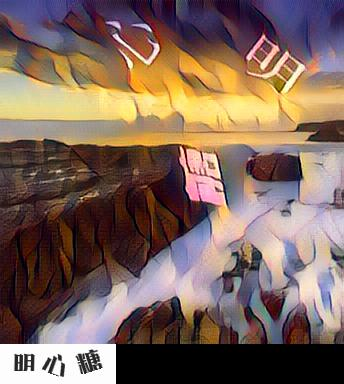character: (242, 30, 309, 97), (174, 144, 231, 211), (101, 14, 162, 70)
